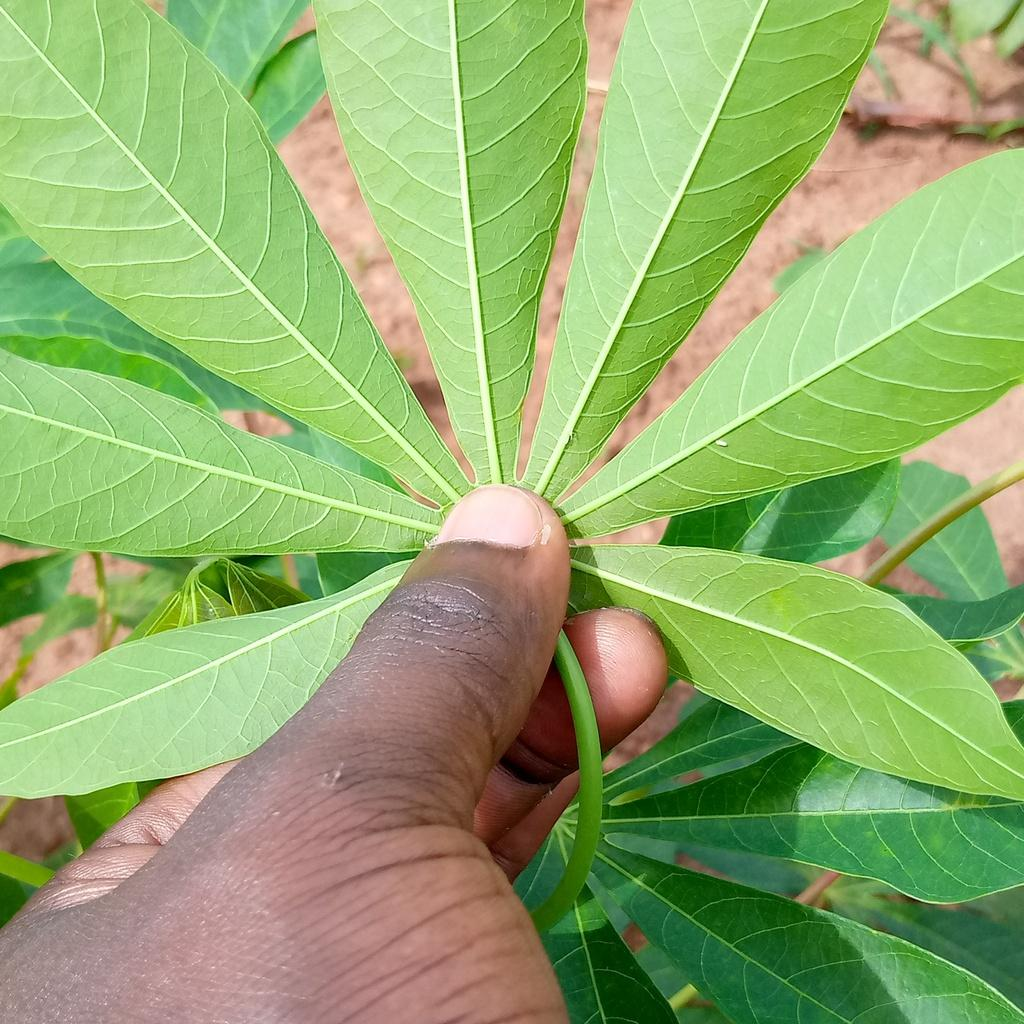adult: (715, 440, 728, 447)
